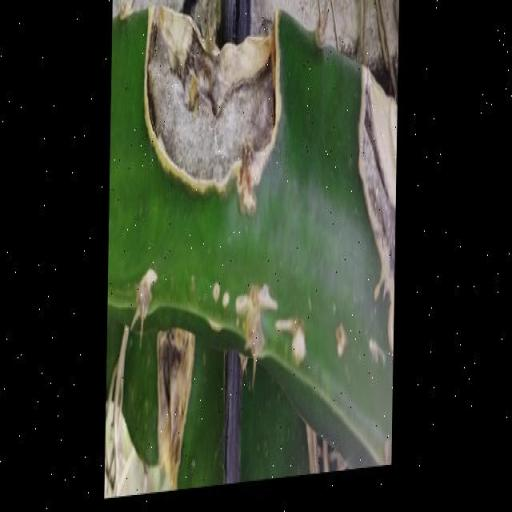stemcanker: (312, 453, 339, 482), (308, 214, 322, 238), (309, 239, 325, 258)
